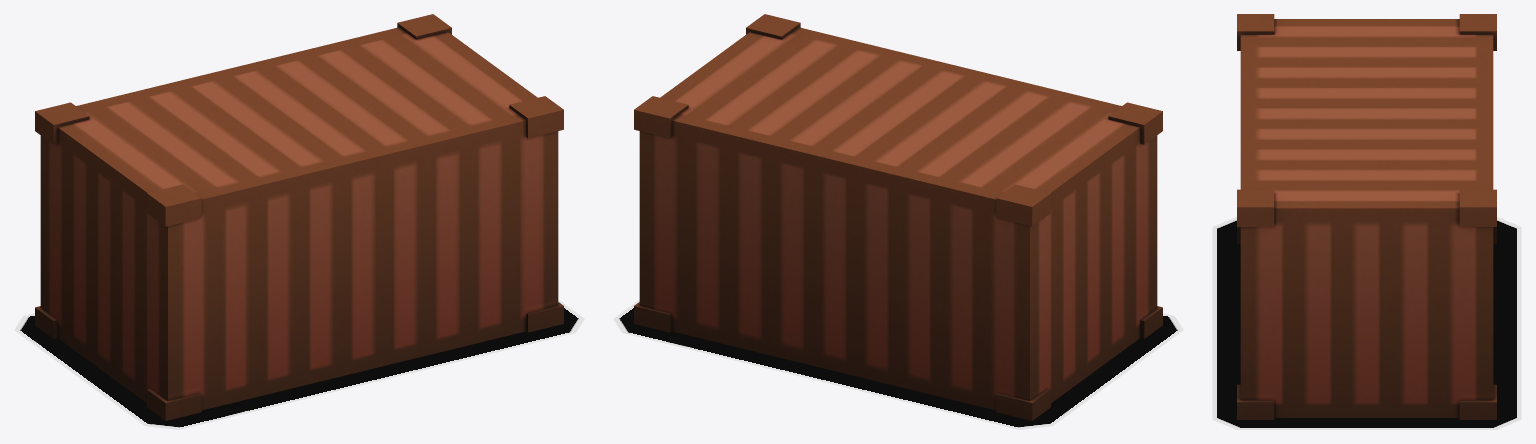
Rendered from 3x2_container.FBX.
The picture shows the model from 3 angles, left to right: view 1: azimuth 30°, elevation 25°; view 2: azimuth 150°, elevation 25°; view 3: azimuth 270°, elevation 25°; orthographic projection.
Visible parts, largest first — view 1: 3x2_container, 3x2_container_soft_shadow; view 2: 3x2_container, 3x2_container_soft_shadow; view 3: 3x2_container, 3x2_container_soft_shadow.
Part boxes in pixels (x1=…): 3x2_container: x1=35, y1=14, x2=563, y2=420; 3x2_container_soft_shadow: x1=14, y1=300, x2=584, y2=429; 3x2_container: x1=634, y1=14, x2=1162, y2=420; 3x2_container_soft_shadow: x1=613, y1=300, x2=1183, y2=429; 3x2_container: x1=1237, y1=14, x2=1496, y2=419; 3x2_container_soft_shadow: x1=1212, y1=217, x2=1521, y2=429.
Bounding box in the file's own units: 3005 × 1411 × 1843.
